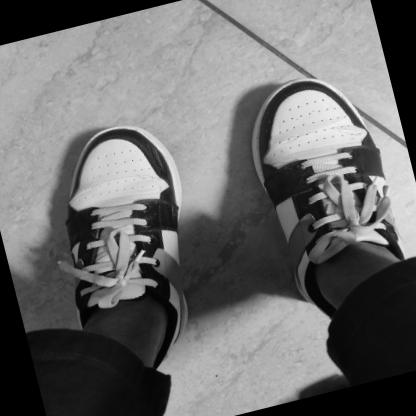ankle: (341, 234, 348, 241), (136, 291, 142, 296)
heel: (181, 330, 184, 333), (305, 296, 308, 299)
left_foot: (35, 117, 222, 376)
pinky: (342, 104, 351, 111), (77, 170, 83, 174)
right_foot: (236, 64, 415, 322)
toe: (270, 107, 279, 115), (142, 143, 149, 148)
